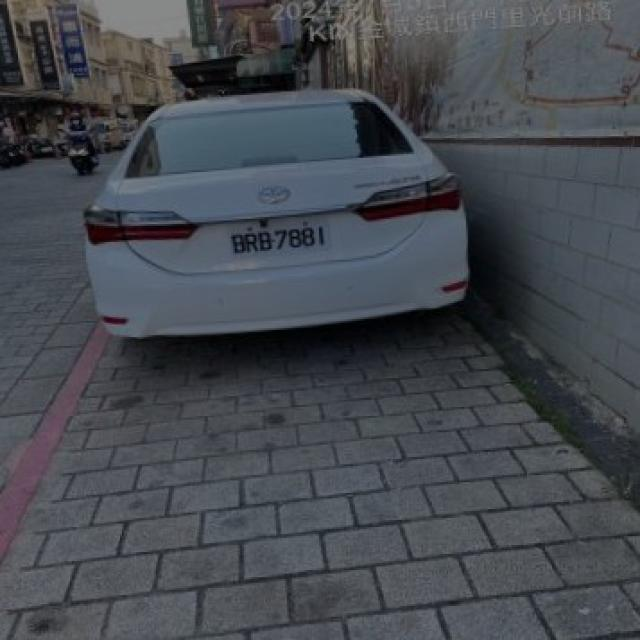Legalparking: (84, 90, 468, 337)
